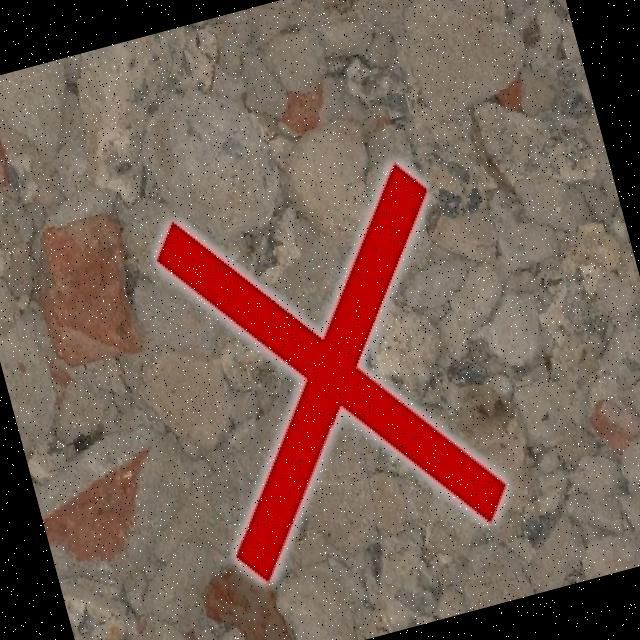x_marker: (148, 158, 512, 585)
